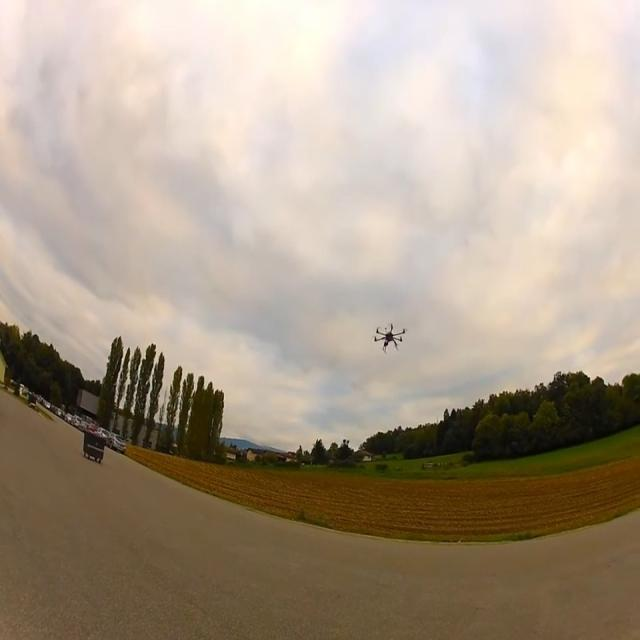drone: (374, 322, 406, 353)
